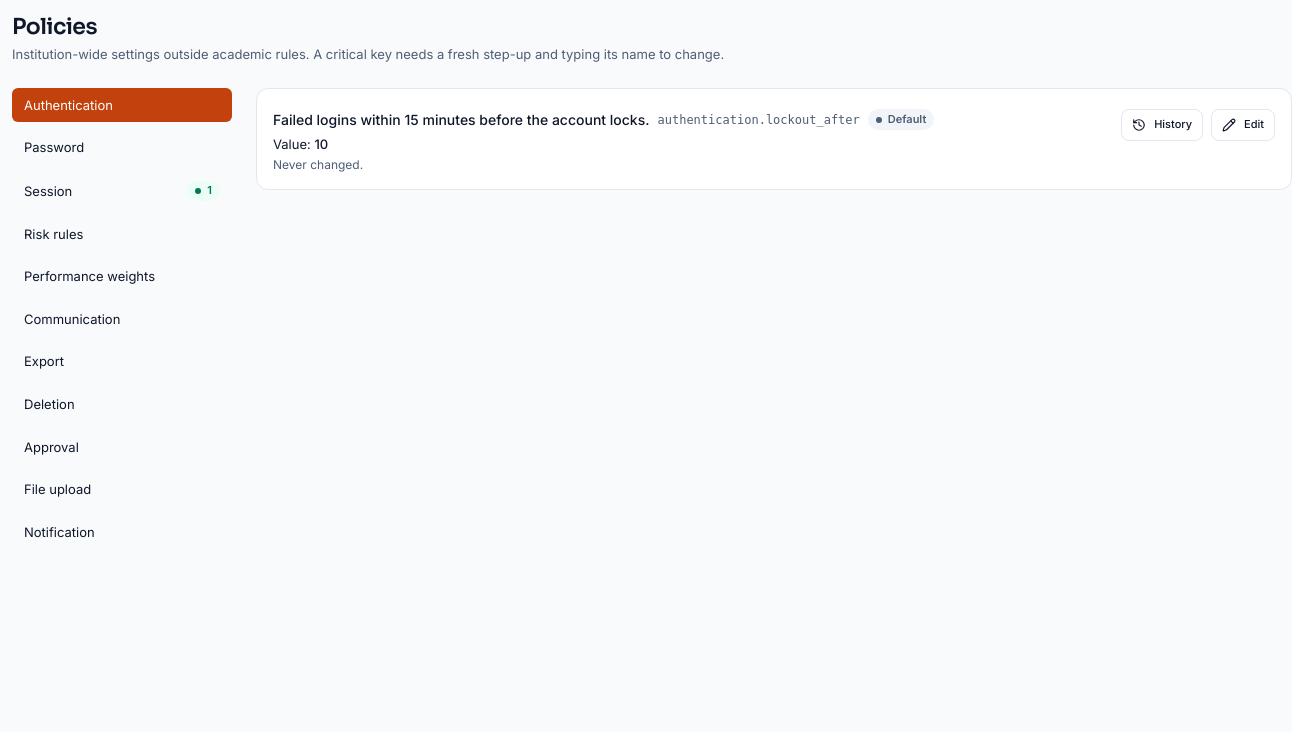
Test: PoliciesScreen › groups keys by category and switches between them
Expected: the text "Failed logins within 15 minutes before the account locks." is shown, [273,109,650,131]
Expected: the text "Idle timeout in minutes" is not shown
Click the button "Session 1" at point(122, 191), box [12,173,232,209]
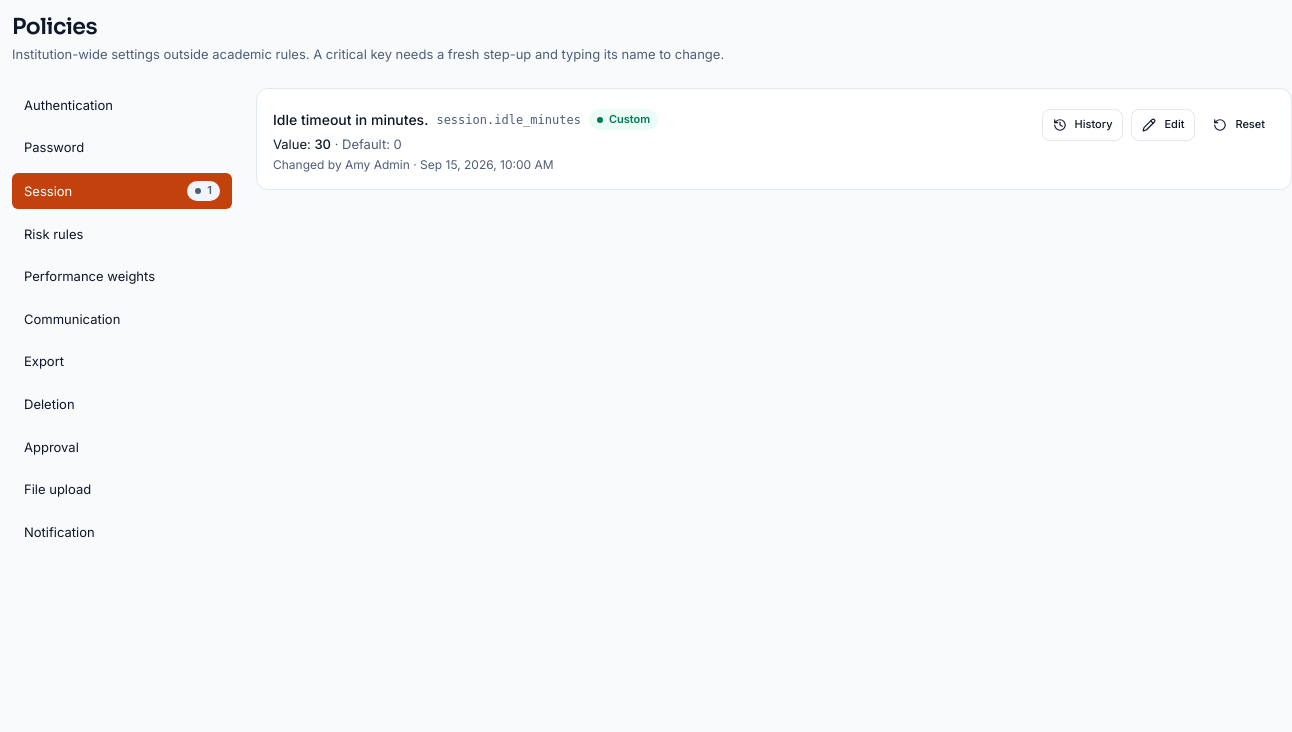
Result: the text "Idle timeout in minutes." is shown at [273,109,428,131]
Result: the text "Changed by Amy Admin · Sep 15, 2026, 10:00 AM" is shown at [273,157,554,172]
Result: the text "Custom" is shown at [589,109,658,130]
